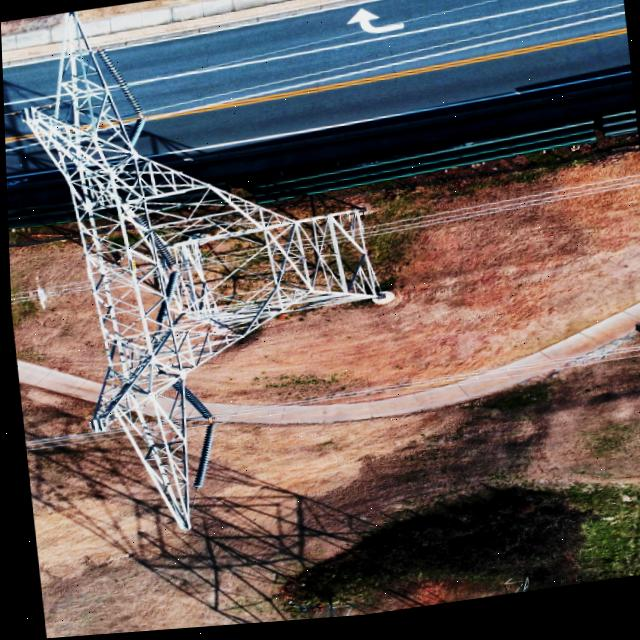poles: (29, 14, 389, 532)
wires: (179, 316, 640, 436), (361, 183, 640, 243), (21, 429, 122, 450), (9, 281, 86, 303)
